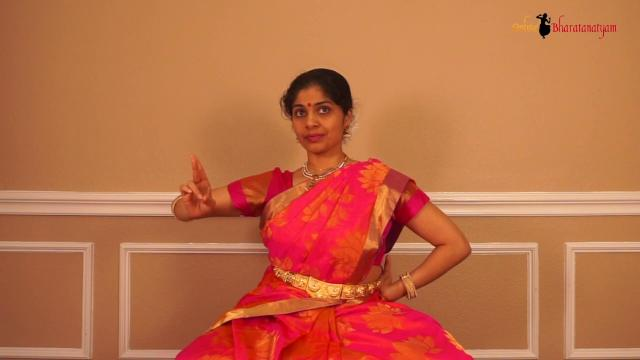kartarimukh: (163, 154, 230, 221)
